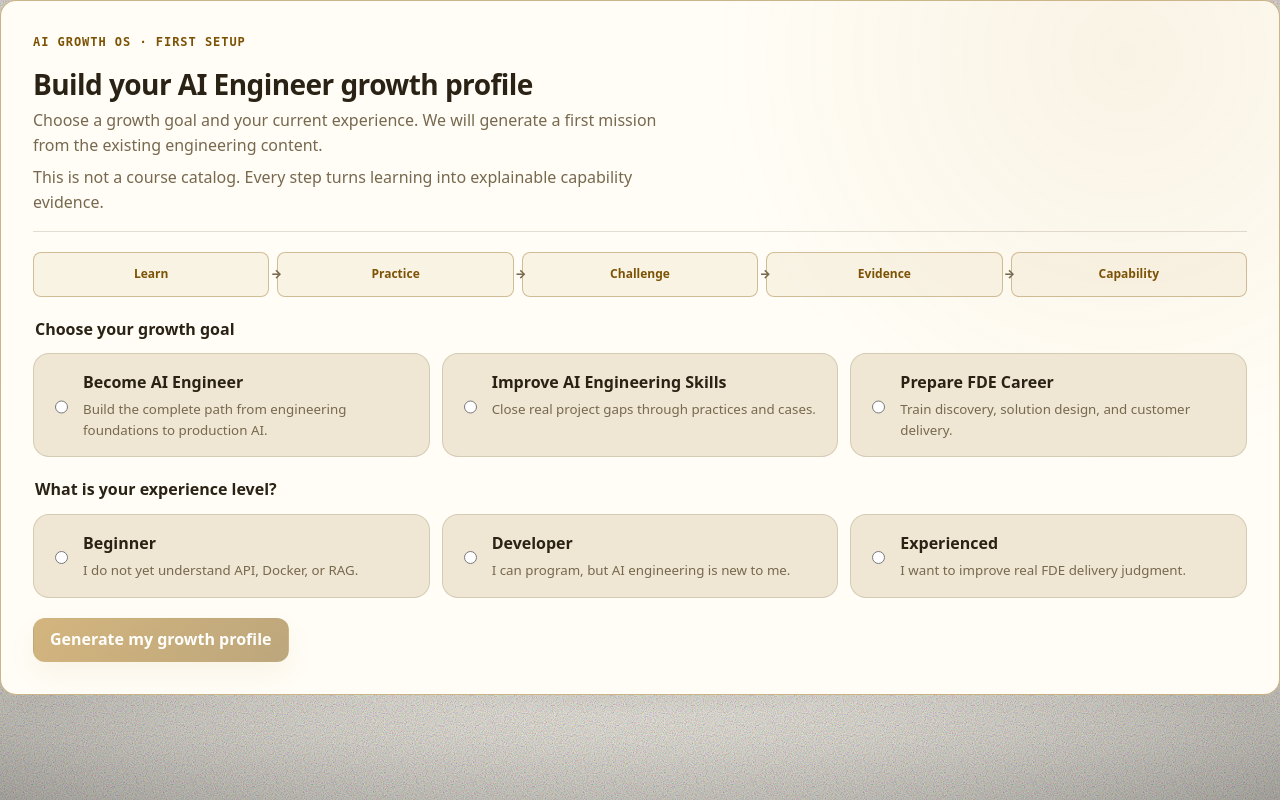
Scenario: NewUserLearningJourney › does not recommend an unrelated Concept as the mission guide
The image size is (1280, 800).
Step 1. Click the radio button labelled "Become AI Engineer" → click(62, 407), box [55,374,68,440]
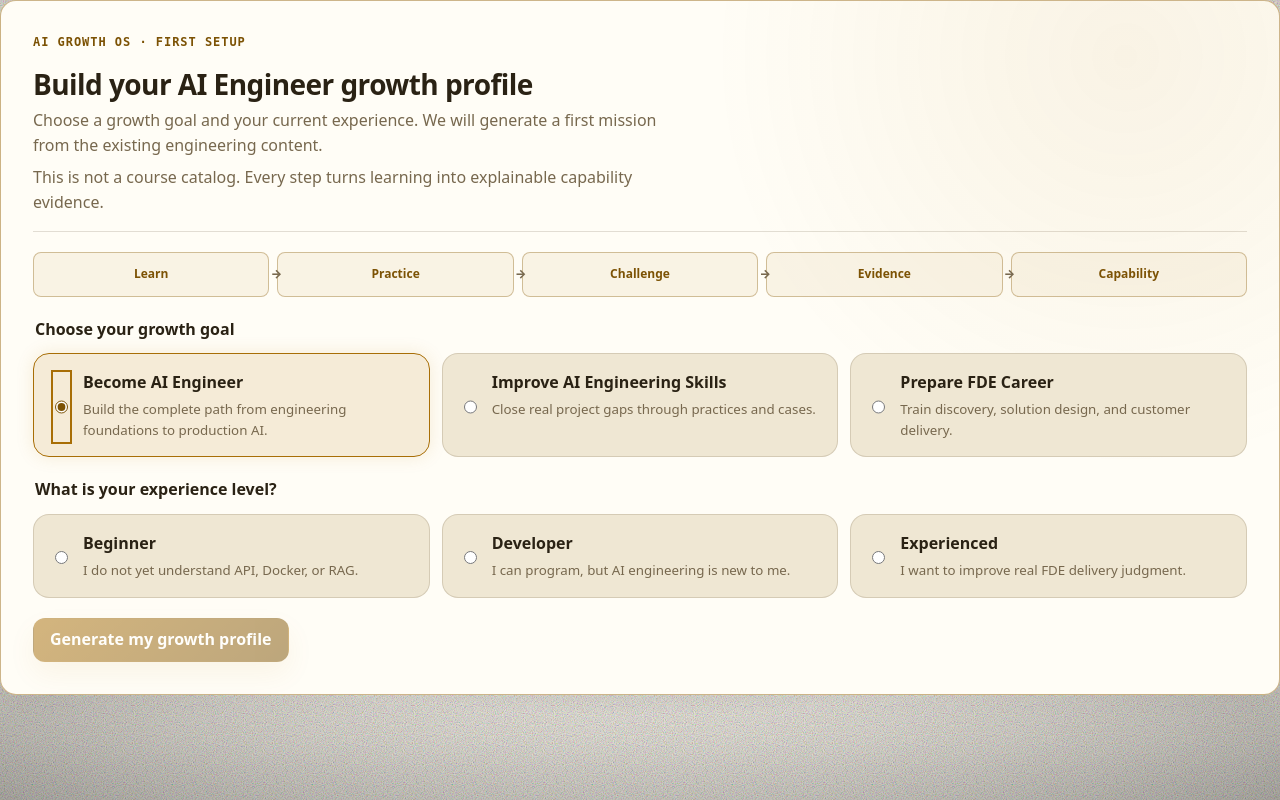
Step 2. Click the radio button labelled "Beginner I do not yet understand API, Docker, or RAG." → click(62, 558), box [55,534,68,581]
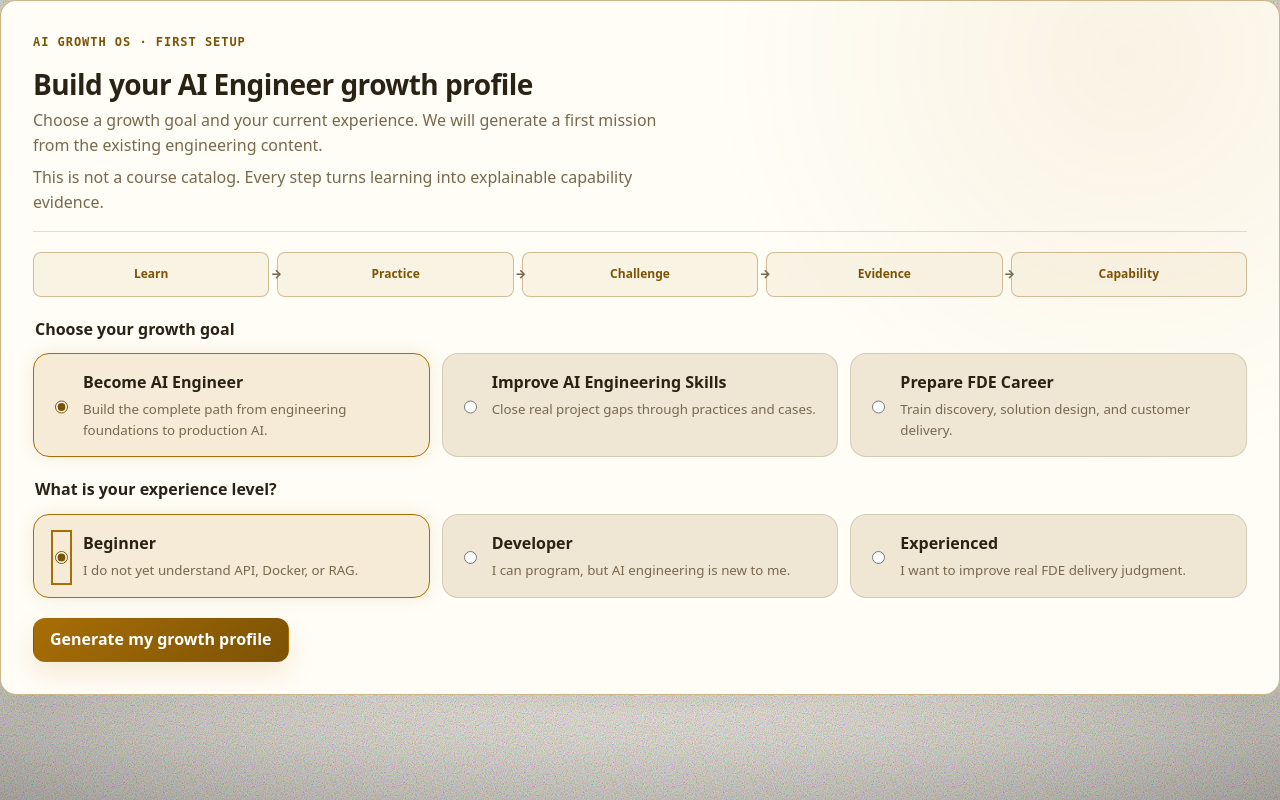
Step 3. Click the button "Generate my growth profile" → click(161, 640), box [33,618,288,662]
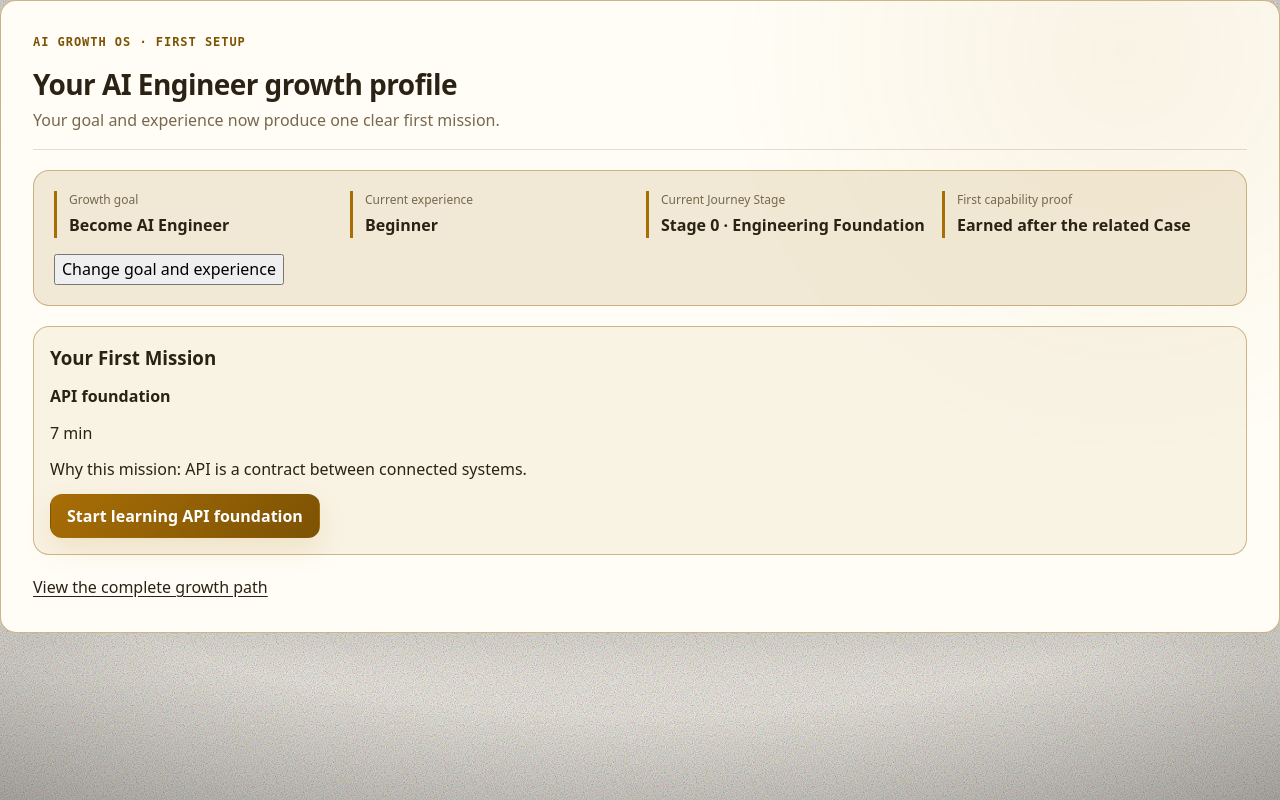
Expected: the element "Your First Mission" is shown, [33,326,1247,555]
